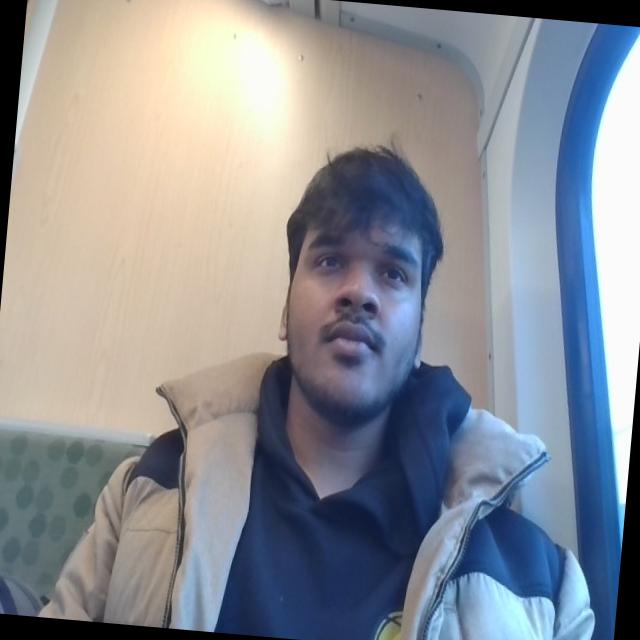no hat: (270, 116, 465, 241)
